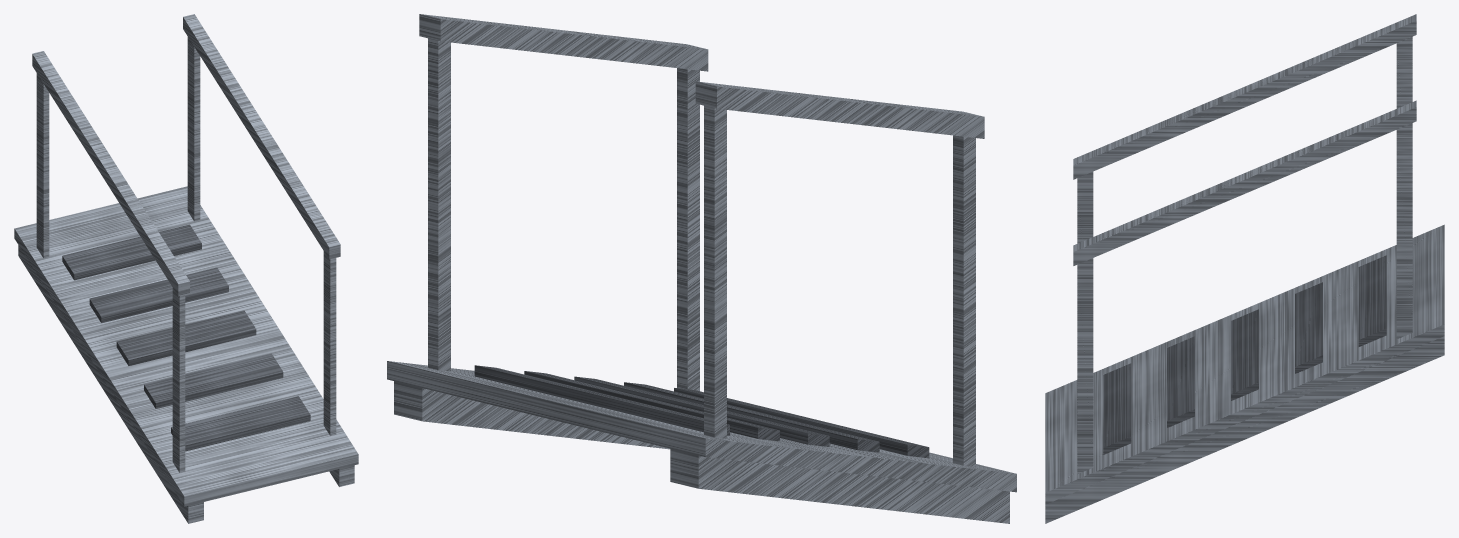
File: quay_gangway.fbx
The picture shows the model from 3 angles, left to right: view 1: azimuth 30°, elevation 25°; view 2: azimuth 150°, elevation 25°; view 3: azimuth 270°, elevation 25°; orthographic projection. The views are drawn at different scales.
Visible parts, largest first — view 1: quay_gangway; view 2: quay_gangway; view 3: quay_gangway.
Boxes of the visible parts, x1,y1,x2,y2 form: quay_gangway: (14, 14, 358, 523); quay_gangway: (387, 14, 1016, 523); quay_gangway: (1045, 14, 1444, 523).
Bounding box in the file's own units: 90 × 175 × 152.
